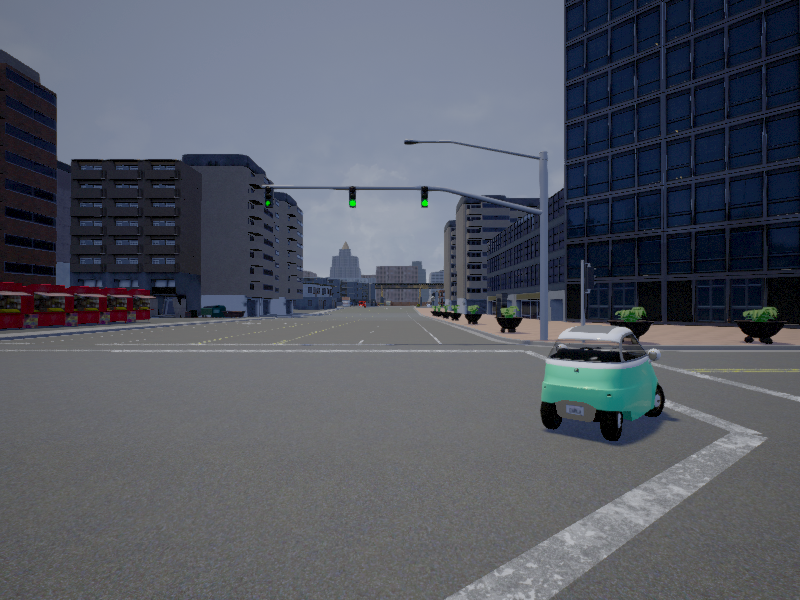Benign: (542, 323, 666, 442)
